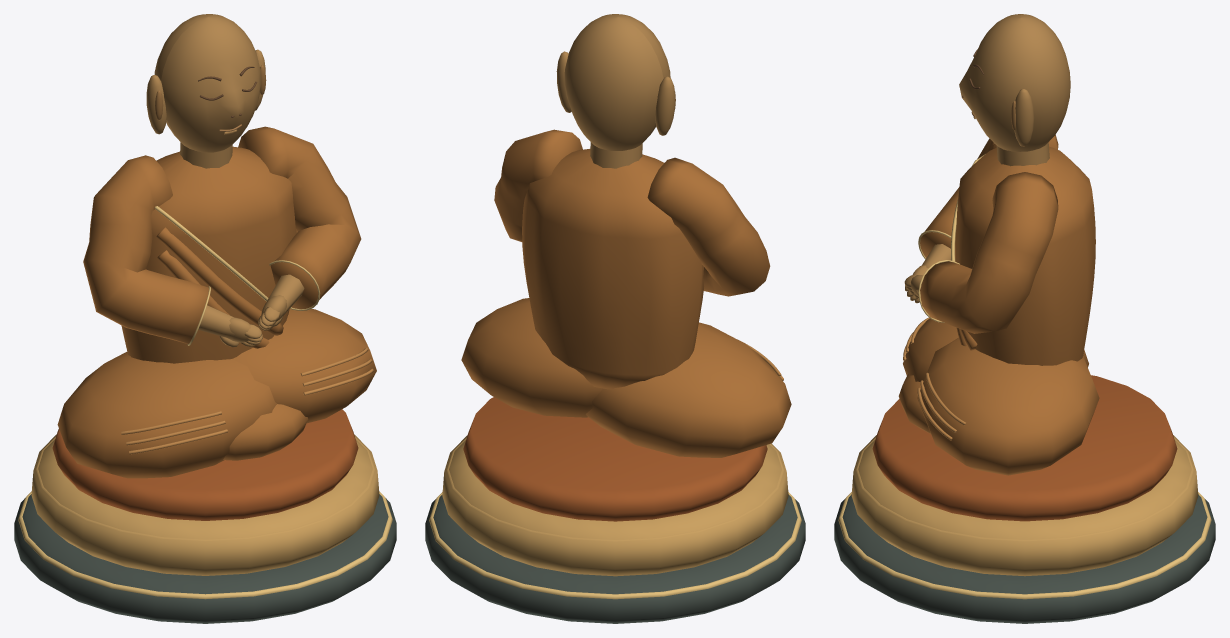
File: arhat_14_lod1.glb
The picture shows the model from 3 angles, left to right: view 1: azimuth 30°, elevation 25°; view 2: azimuth 150°, elevation 25°; view 3: azimuth 270°, elevation 25°; orthographic projection.
Parts seen in each view (by area): view 1: arhat_14_ArhatDrapery, arhat_14_AntiqueGold, arhat_14_CarvedPlinth, arhat_14_WarmBronze, arhat_14_SaffronDrapery, arhat_14_RaisedGoldBorders, arhat_14_DraperyFoldHighlights; view 2: arhat_14_ArhatDrapery, arhat_14_SaffronDrapery, arhat_14_AntiqueGold, arhat_14_CarvedPlinth, arhat_14_WarmBronze, arhat_14_RaisedGoldBorders; view 3: arhat_14_ArhatDrapery, arhat_14_SaffronDrapery, arhat_14_AntiqueGold, arhat_14_CarvedPlinth, arhat_14_WarmBronze, arhat_14_RaisedGoldBorders, arhat_14_DraperyFoldHighlights.
Boxes of the visible parts, x1=… form: arhat_14_ArhatDrapery: x1=57, y1=126, x2=376, y2=478; arhat_14_AntiqueGold: x1=31, y1=434, x2=379, y2=575; arhat_14_CarvedPlinth: x1=14, y1=494, x2=396, y2=623; arhat_14_WarmBronze: x1=146, y1=14, x2=304, y2=347; arhat_14_SaffronDrapery: x1=52, y1=409, x2=358, y2=520; arhat_14_RaisedGoldBorders: x1=18, y1=206, x2=392, y2=599; arhat_14_DraperyFoldHighlights: x1=121, y1=347, x2=373, y2=454; arhat_14_ArhatDrapery: x1=461, y1=129, x2=791, y2=457; arhat_14_SaffronDrapery: x1=463, y1=397, x2=767, y2=521; arhat_14_AntiqueGold: x1=442, y1=435, x2=788, y2=576; arhat_14_CarvedPlinth: x1=425, y1=495, x2=805, y2=623; arhat_14_WarmBronze: x1=556, y1=14, x2=675, y2=168; arhat_14_RaisedGoldBorders: x1=429, y1=492, x2=801, y2=599; arhat_14_ArhatDrapery: x1=898, y1=135, x2=1099, y2=475; arhat_14_SaffronDrapery: x1=872, y1=375, x2=1177, y2=521; arhat_14_AntiqueGold: x1=851, y1=435, x2=1198, y2=576; arhat_14_CarvedPlinth: x1=834, y1=494, x2=1215, y2=623; arhat_14_WarmBronze: x1=904, y1=14, x2=1070, y2=303; arhat_14_RaisedGoldBorders: x1=838, y1=154, x2=1211, y2=599; arhat_14_DraperyFoldHighlights: x1=903, y1=317, x2=965, y2=440.
Size of the model in its own units: 0.92 by 1.41 by 0.92.
